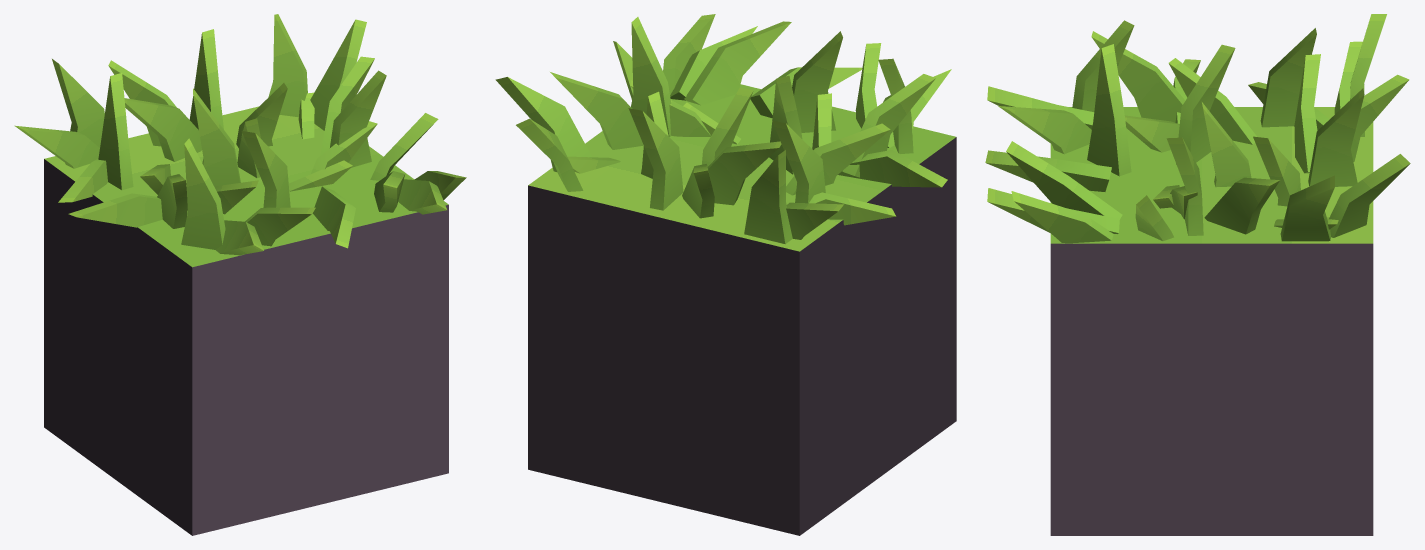
File: tile_floor_nature_grass01.FBX
3 views of the same model, side by side, from view 1: azimuth 30°, elevation 25°; view 2: azimuth 150°, elevation 25°; view 3: azimuth 270°, elevation 25° (orthographic). The views are drawn at different scales.
Visible parts, largest first — view 1: tile_floor_nature_grass01; view 2: tile_floor_nature_grass01; view 3: tile_floor_nature_grass01.
Part boxes in pixels (x1=…): tile_floor_nature_grass01: x1=14, y1=14, x2=466, y2=535; tile_floor_nature_grass01: x1=495, y1=14, x2=956, y2=535; tile_floor_nature_grass01: x1=985, y1=14, x2=1410, y2=535.
Size of the model in its own units: 55.29 by 53.46 by 51.87.
